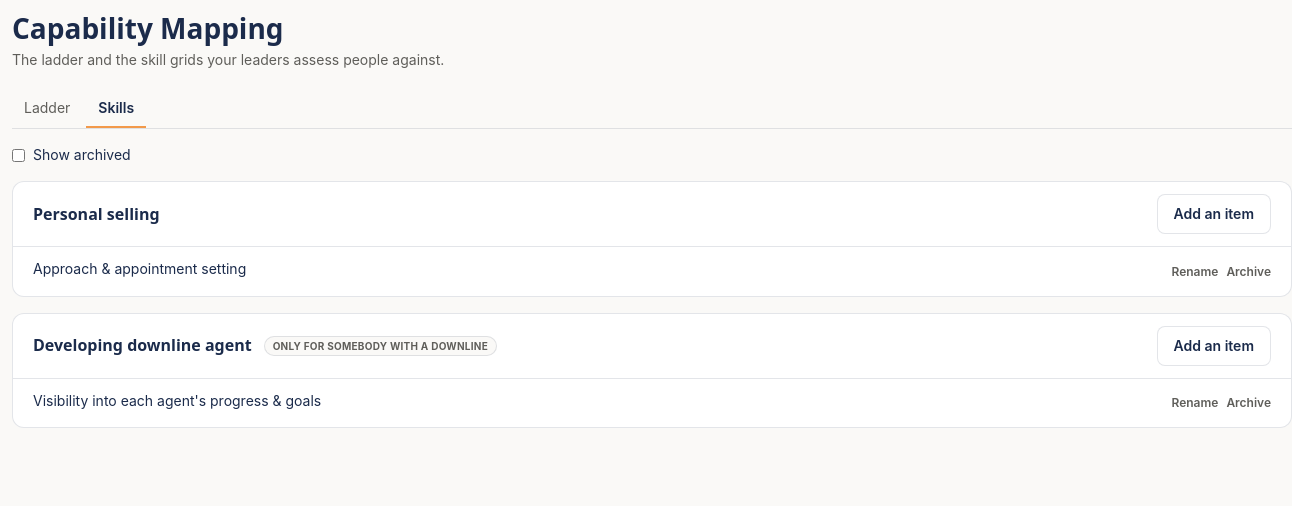
Test case: the capability catalog screen › gives every row a code, shown where a reader is acting on it
Expected: the text "Approach & appointment setting" is shown, [33,260,246,278]
Click the button "Rename" in the row of "Approach & appointment setting".
click(1195, 272)  # box [1172,263,1218,280]
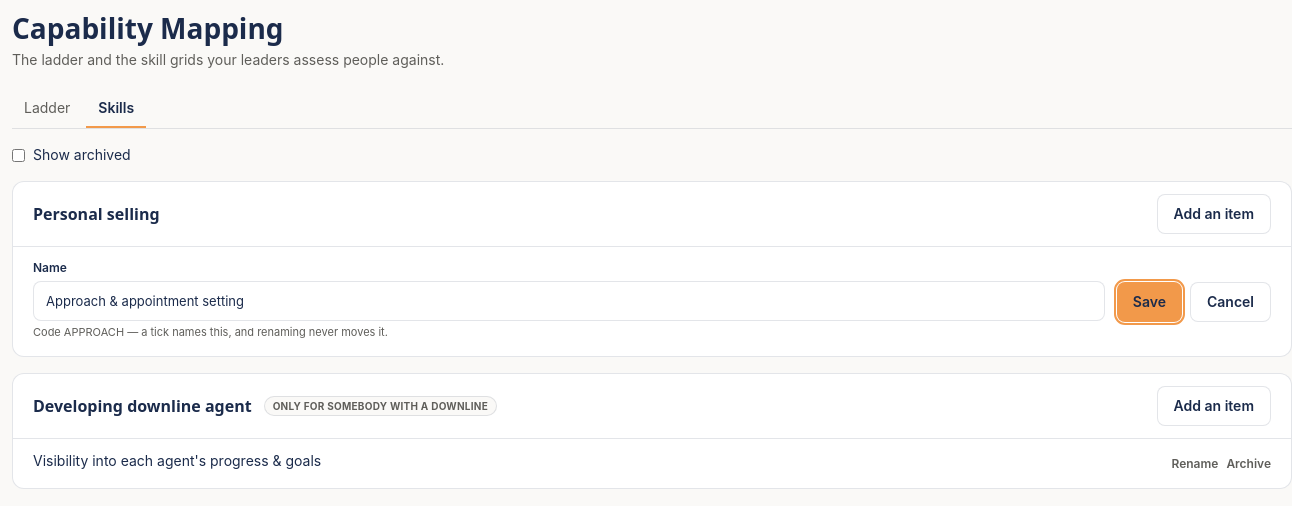
Now the text "Code APPROACH" is shown, box [33,325,388,339]
